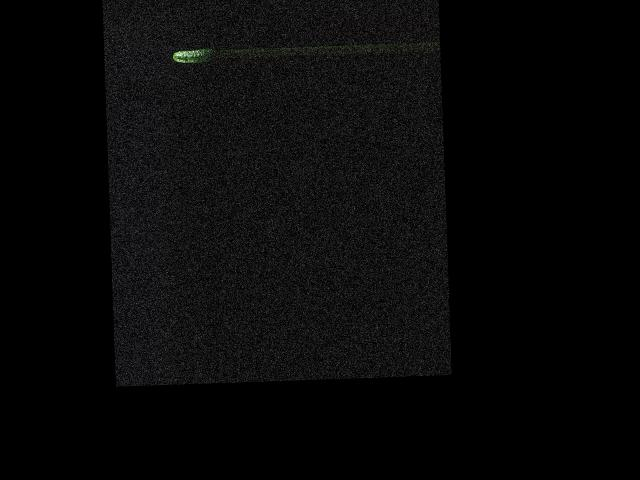cucumber: (172, 47, 214, 63)
